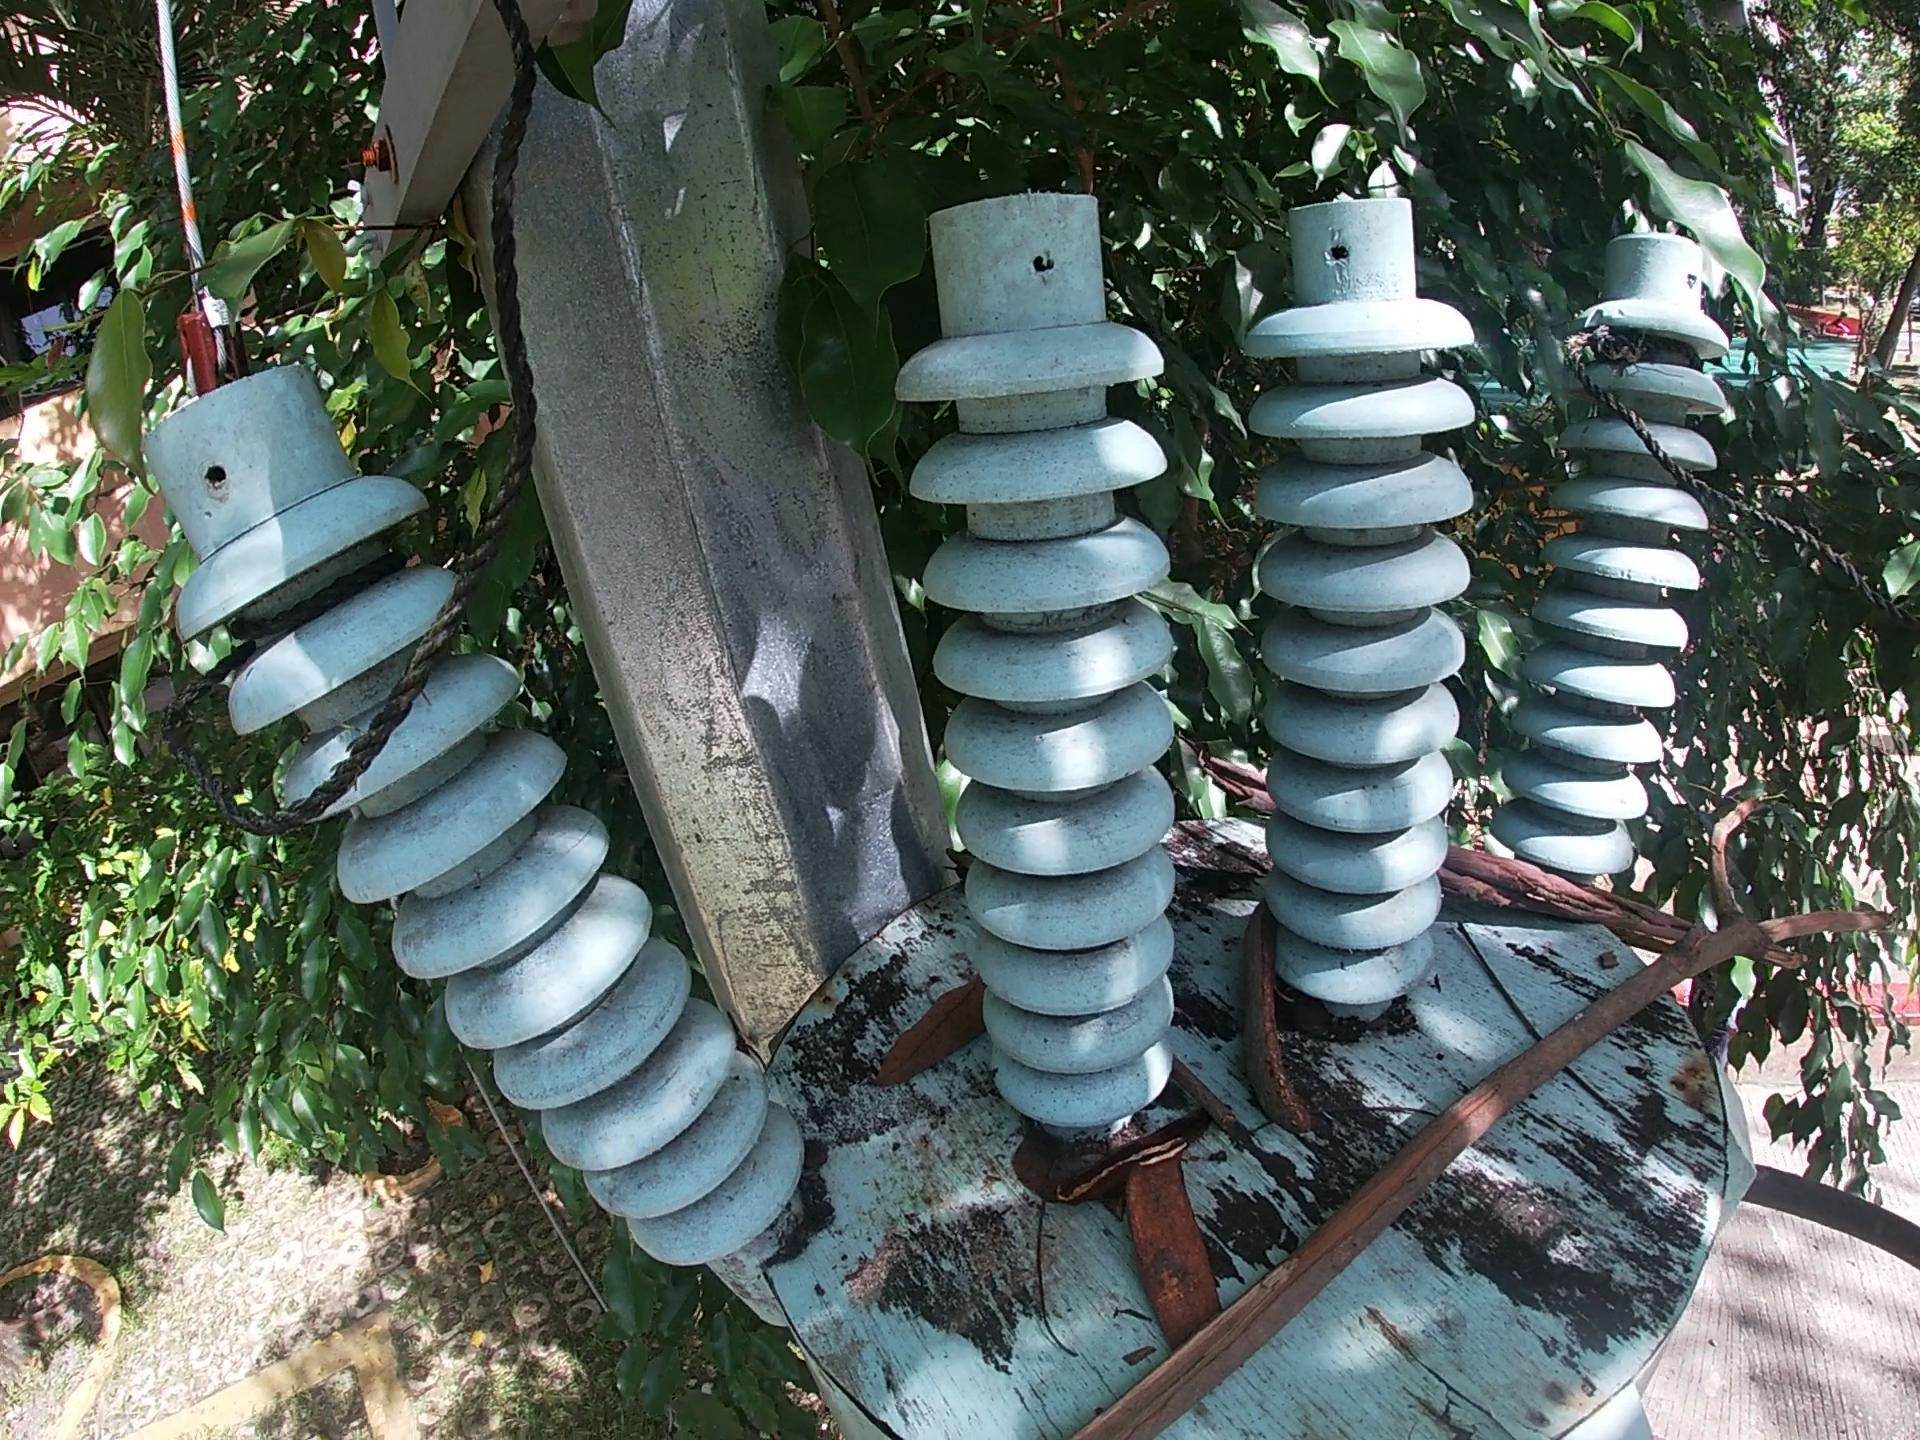leaf: (883, 980, 983, 1110), (996, 1130, 1079, 1181)
mahogany fruit: (1231, 892, 1342, 1156), (1141, 1151, 1223, 1349)
tree branch: (1052, 782, 1902, 1438), (1462, 926, 1636, 1113), (1430, 849, 1686, 954), (1017, 1206, 1096, 1366), (1070, 1119, 1197, 1203), (1191, 740, 1271, 809), (1178, 1063, 1243, 1134)
